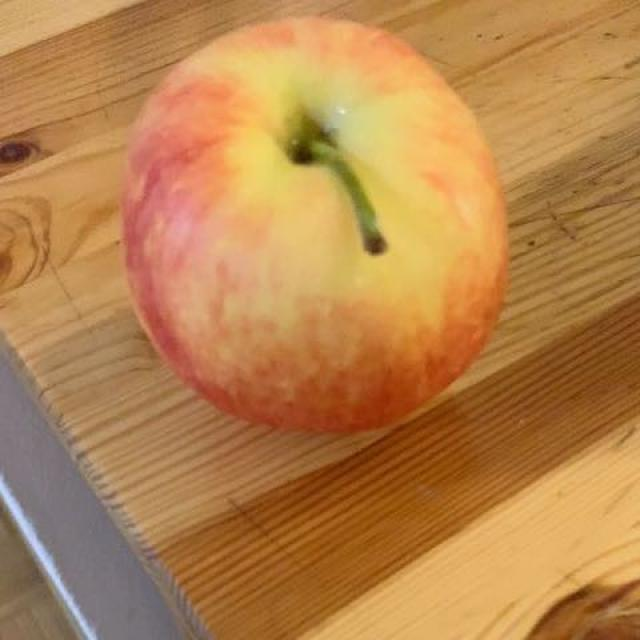Apple: (105, 0, 522, 445)
